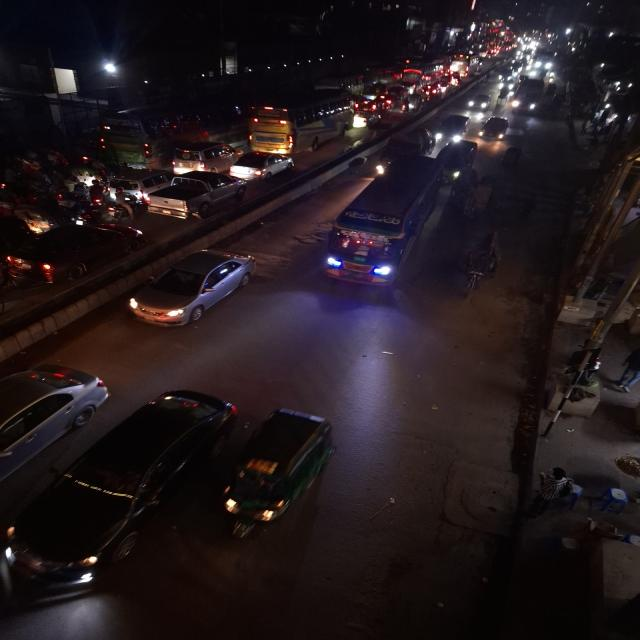bus: (319, 155, 451, 292), (245, 90, 356, 154), (509, 76, 547, 117)
car: (1, 386, 242, 600), (0, 362, 110, 498), (122, 246, 262, 330), (10, 222, 139, 286), (144, 170, 248, 222), (0, 212, 35, 283), (170, 140, 238, 172), (109, 168, 170, 202), (228, 151, 296, 180), (435, 111, 473, 145), (478, 114, 512, 144), (464, 91, 494, 112)
cng: (217, 407, 340, 541)
motorcycle: (86, 181, 124, 217)
pickup_van: (378, 128, 434, 168), (437, 138, 480, 187)
rickshaw: (456, 231, 506, 293), (500, 144, 527, 170)
